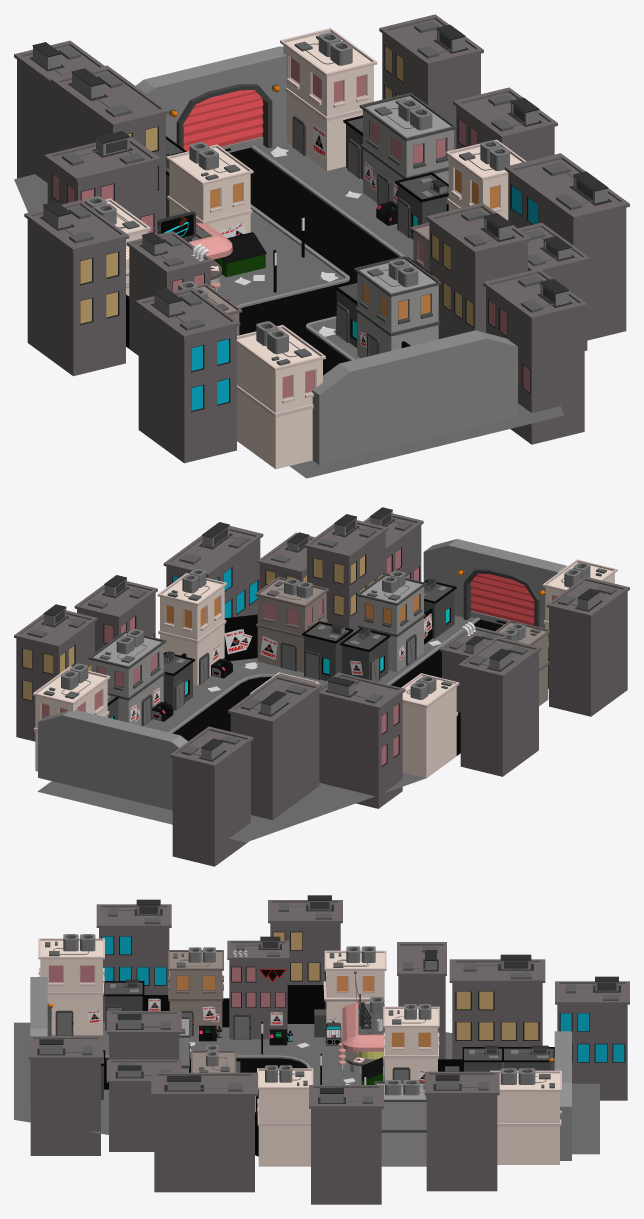
Rendered from RoboKillerVREnvironment(FinalFlipped).fbx.
The picture shows the model from 3 angles, top to bottom: view 1: azimuth 30°, elevation 25°; view 2: azimuth 150°, elevation 25°; view 3: azimuth 270°, elevation 25°; orthographic projection. The views are drawn at different scales.
Parts seen in each view (by area): view 1: chargeStation; view 2: chargeStation; view 3: chargeStation.
Part boxes in pixels (x1,y1,x2,y2): chargeStation: (14, 14, 629, 478); chargeStation: (14, 507, 629, 866); chargeStation: (14, 895, 629, 1204).
Size of the model in its own units: 2347 by 744 by 3167.
